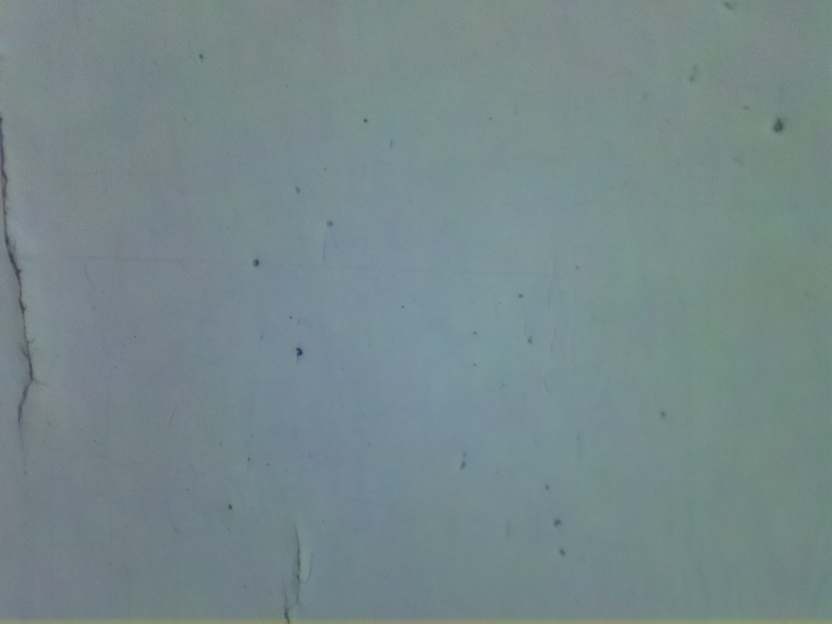crack: (0, 104, 38, 428), (284, 525, 311, 624)
